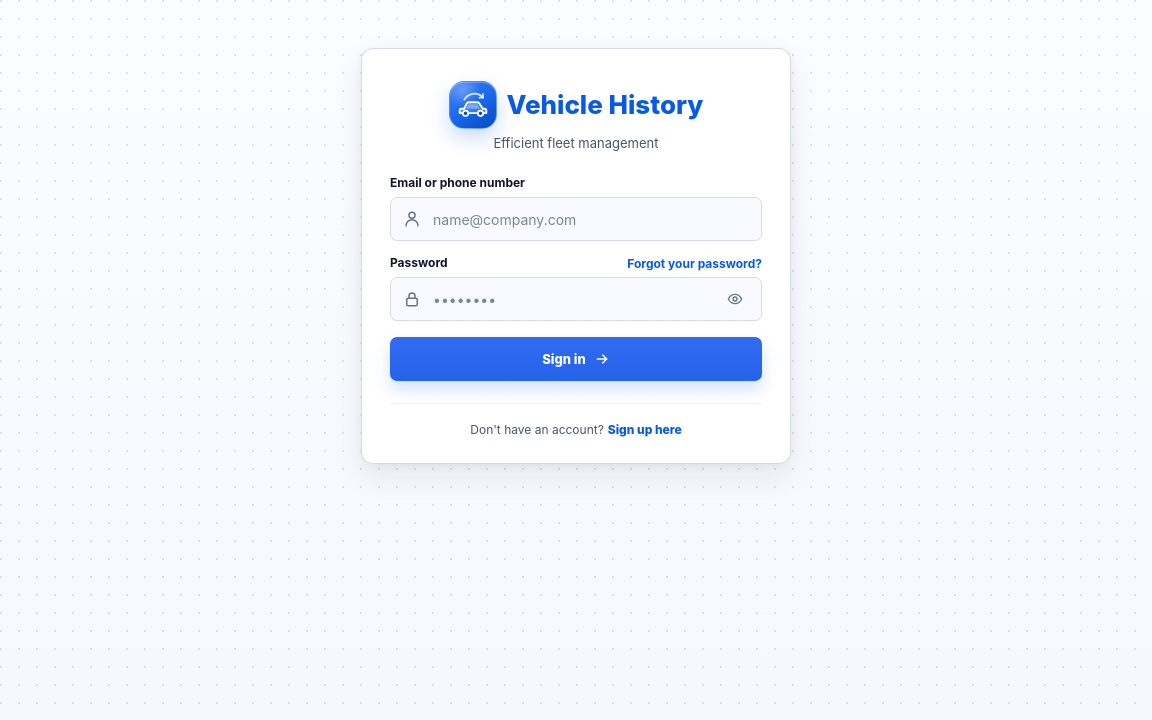
Test: LoginPage › shows field errors returned by the API
The image size is (1152, 720).
Type "driver@example.com" into the field labelled "Email or phone number" at x=590, y=219, box [431, 198, 749, 240]
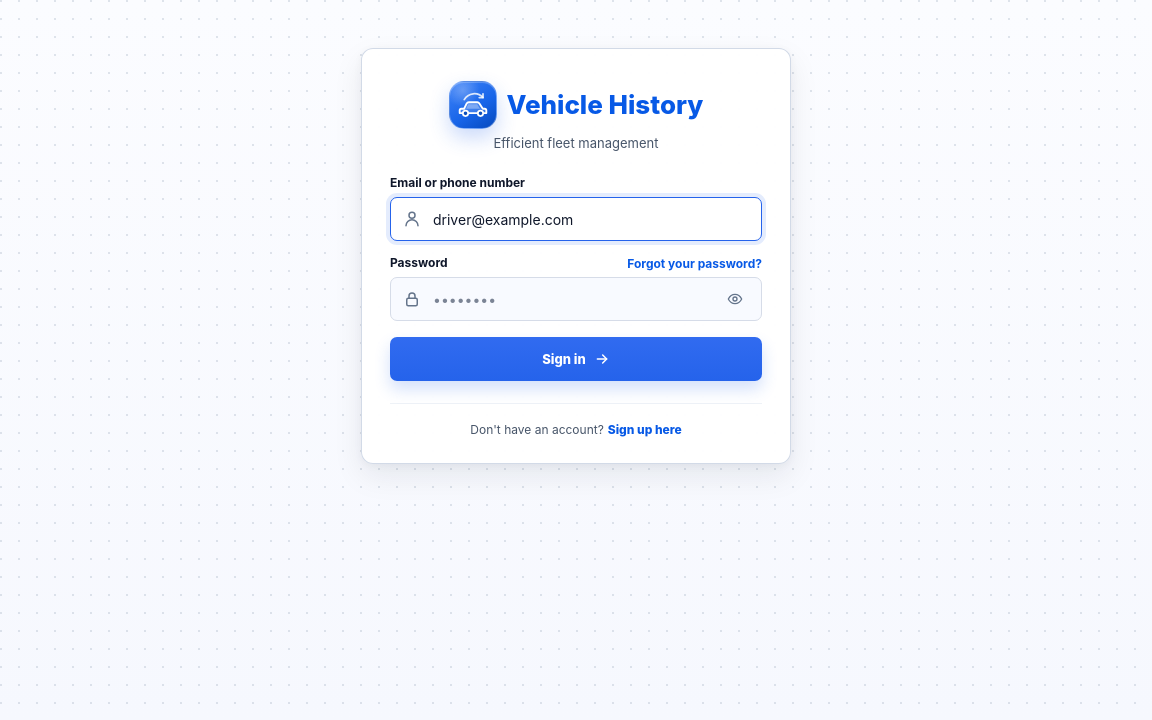
Type "secret-password" into the password field labelled "Password" at x=571, y=299, box [431, 278, 711, 320]
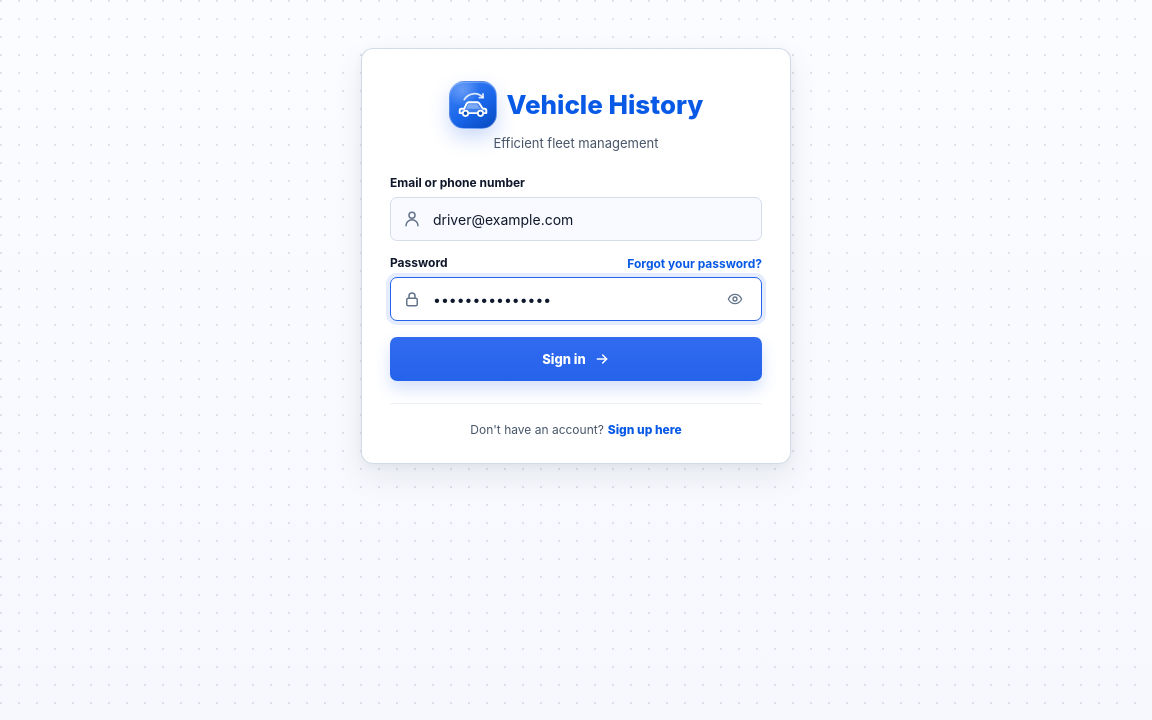
Click the button "Sign in" at x=576, y=359, box [390, 337, 762, 381]
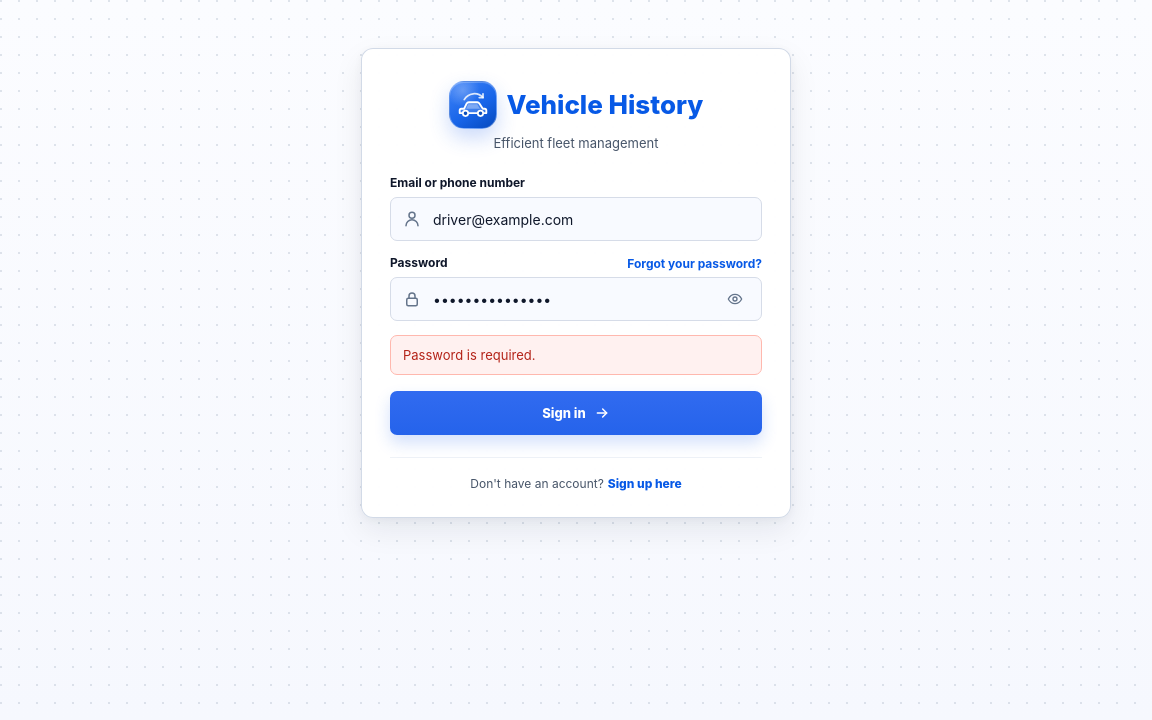
Result: the message reads "Password is required." at [403, 347, 536, 363]
